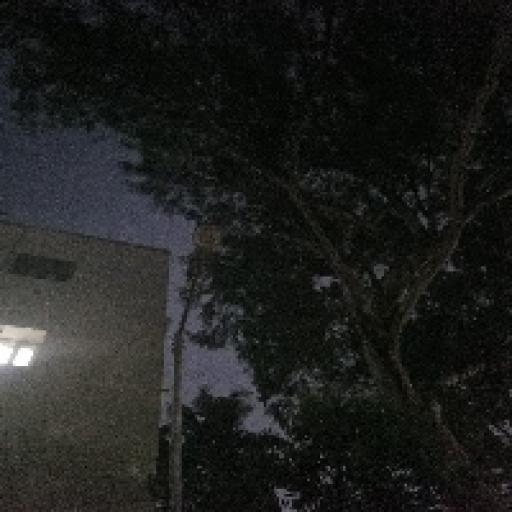Not Working: (181, 216, 229, 284)
